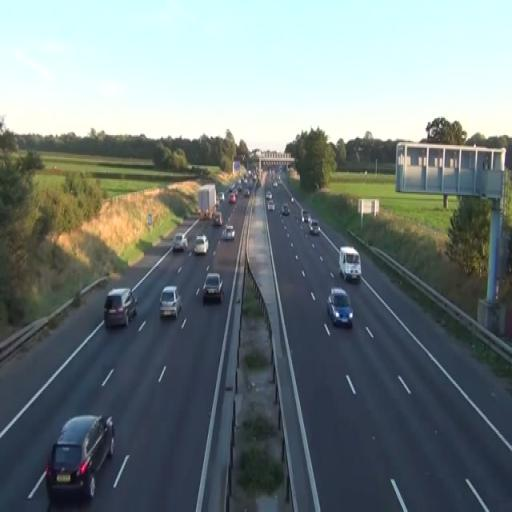Car: (45, 413, 116, 503), (104, 288, 138, 328), (326, 288, 354, 328), (159, 285, 182, 319), (202, 272, 224, 304), (194, 236, 208, 256), (222, 224, 235, 241), (229, 190, 238, 204)
